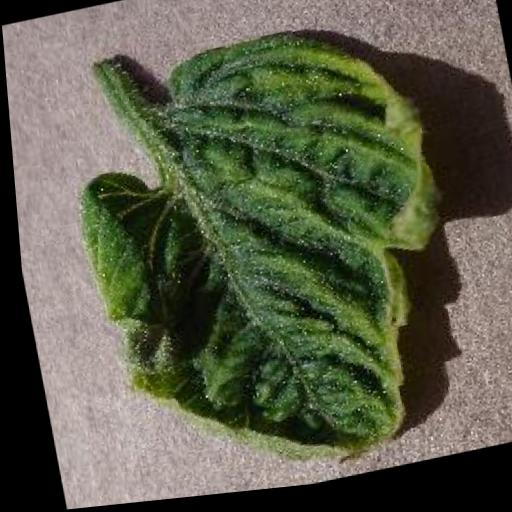Yellow Leaf Curl Virus: (51, 13, 480, 508)
